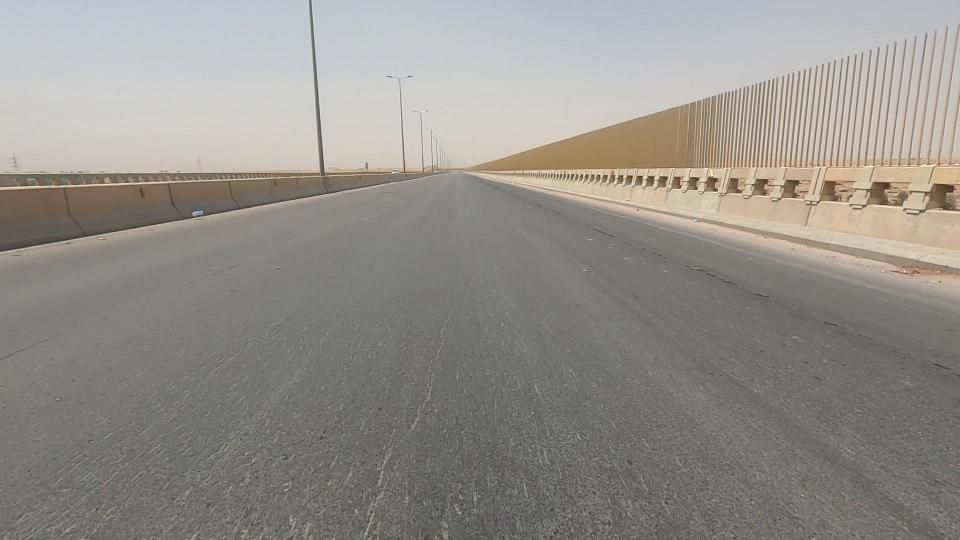GARBAGE: (176, 192, 220, 228)
